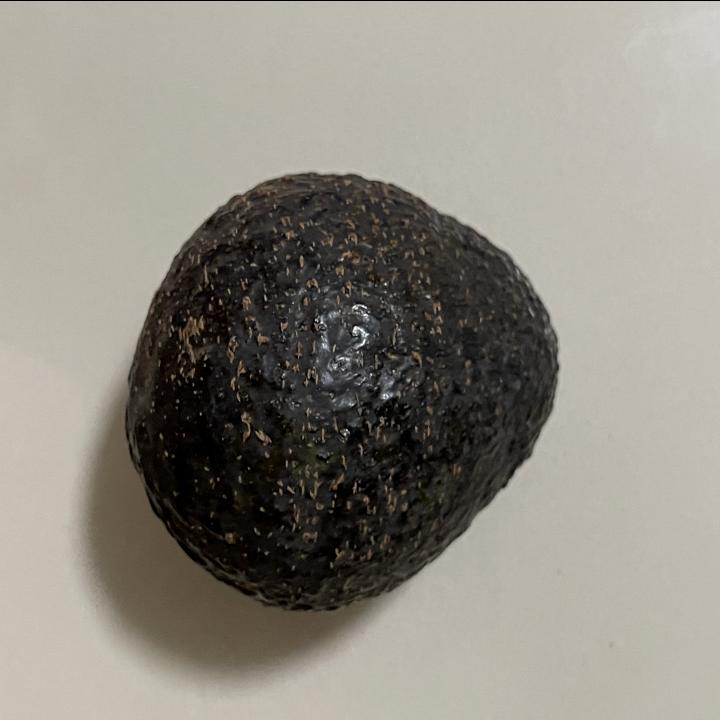Level3: (117, 158, 570, 622)
